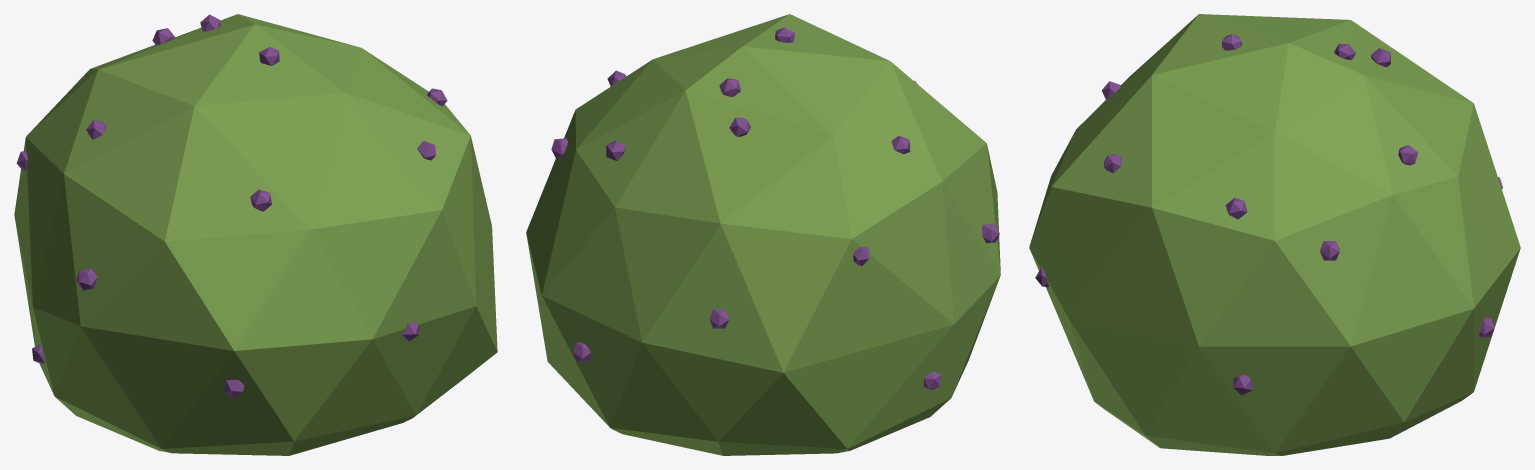
File: bush1berries.glb
The picture shows the model from 3 angles, left to right: view 1: azimuth 30°, elevation 25°; view 2: azimuth 150°, elevation 25°; view 3: azimuth 270°, elevation 25°; orthographic projection. The views are drawn at different scales.
Visible parts, largest first — view 1: berry; view 2: berry; view 3: berry.
Boxes of the visible parts, bbox=[...] form: berry: bbox=[14, 14, 497, 455]; berry: bbox=[526, 14, 1000, 455]; berry: bbox=[1029, 14, 1520, 455].
Bounding box in the file's own units: 1.93 × 1.52 × 2.
